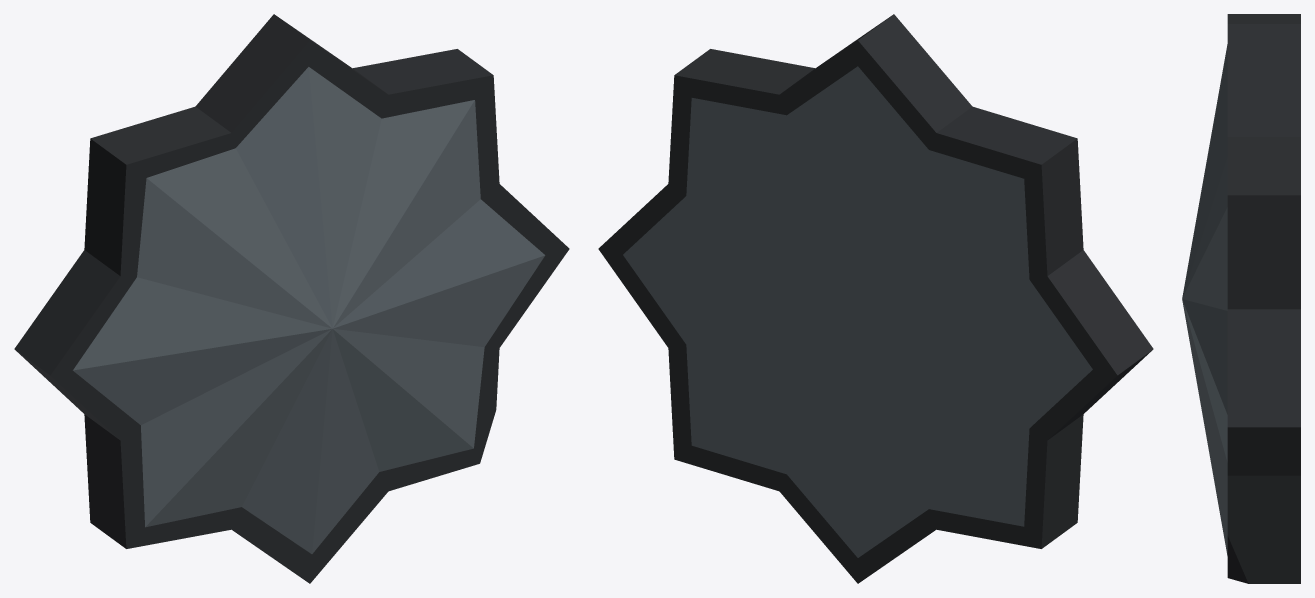
The model's file is SM_Sign_Police_01.fbx.
The picture shows the model from 3 angles, left to right: view 1: azimuth 30°, elevation 25°; view 2: azimuth 150°, elevation 25°; view 3: azimuth 270°, elevation 25°; orthographic projection.
Visible parts, largest first — view 1: SM_Sign_Police_01; view 2: SM_Sign_Police_01; view 3: SM_Sign_Police_01.
Part boxes in pixels (left/top/right/bottom): SM_Sign_Police_01: left=14, top=14, right=569, bottom=583; SM_Sign_Police_01: left=598, top=14, right=1153, bottom=583; SM_Sign_Police_01: left=1182, top=14, right=1300, bottom=583.
Bounding box in the file's own units: 185 × 185 × 36.19.
